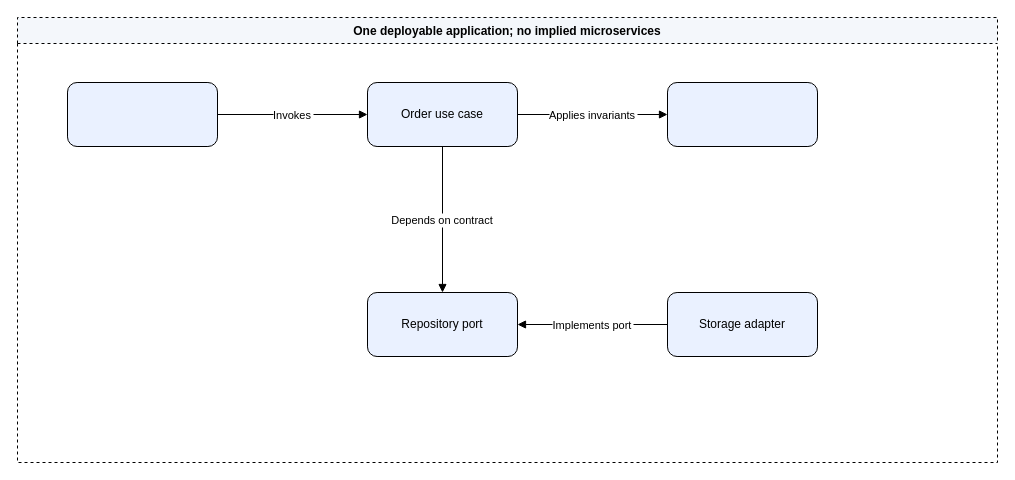
The diagram is 1015 pixels wide and 480 high, and some of its shapes have lost their labels. The shapes that lost their labels are listed below. From the top down, each one's centre as x and y in pixels, then its label:
At [142,114]: "HTTP adapter".
At [742,114]: "Order domain".
